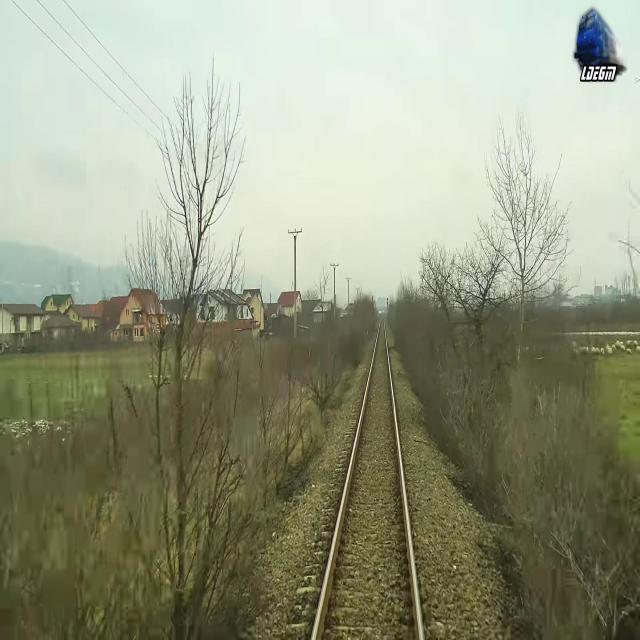rail-track: (315, 319, 418, 639)
